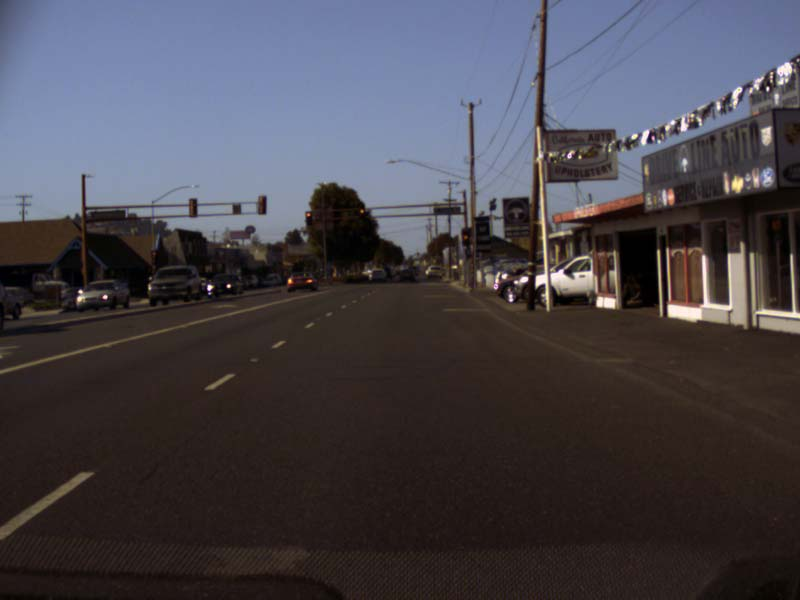Red: (358, 207, 365, 219), (306, 211, 312, 225)
Yellow: (462, 229, 468, 244)
